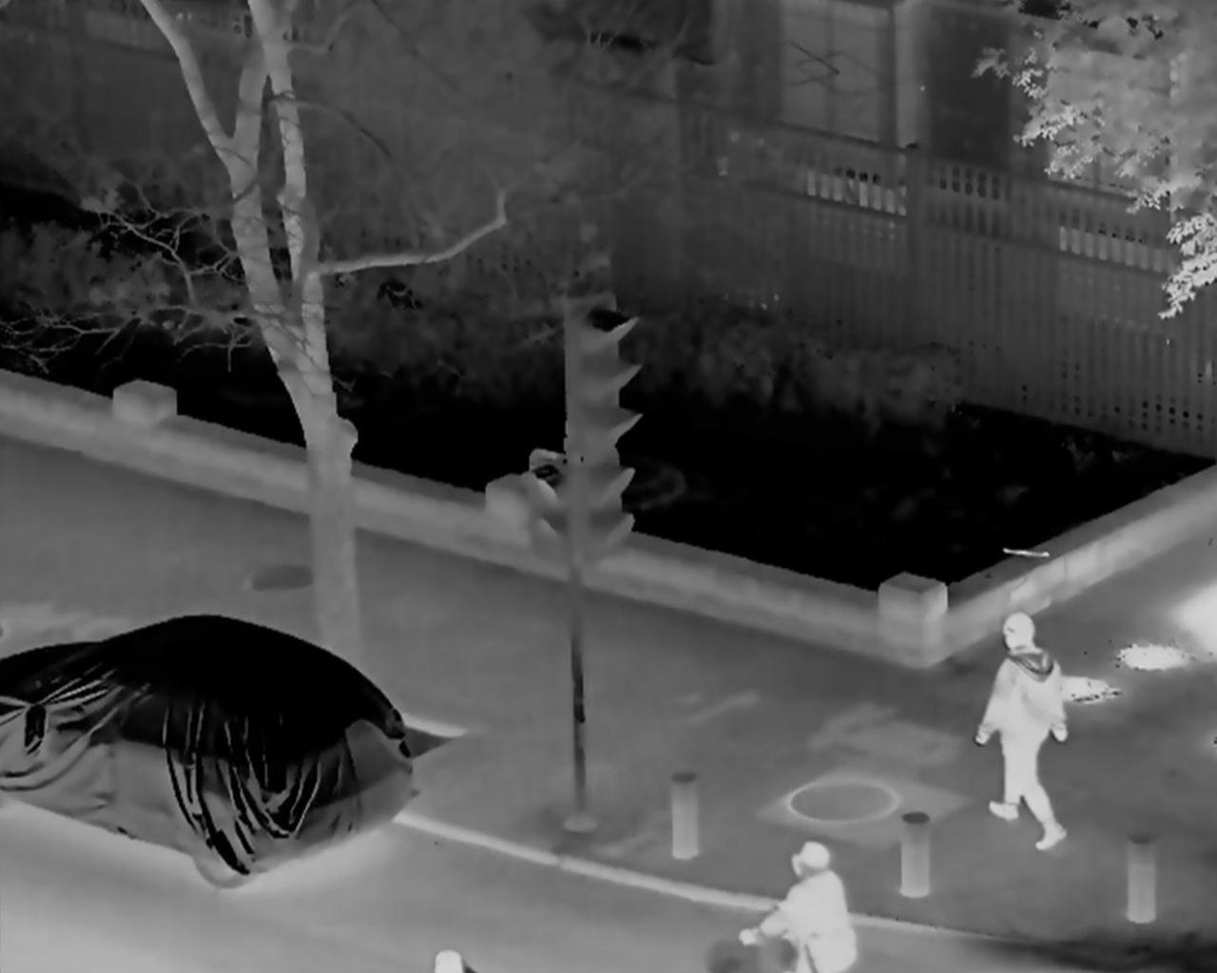person: (972, 616, 1072, 850), (735, 846, 861, 973)
